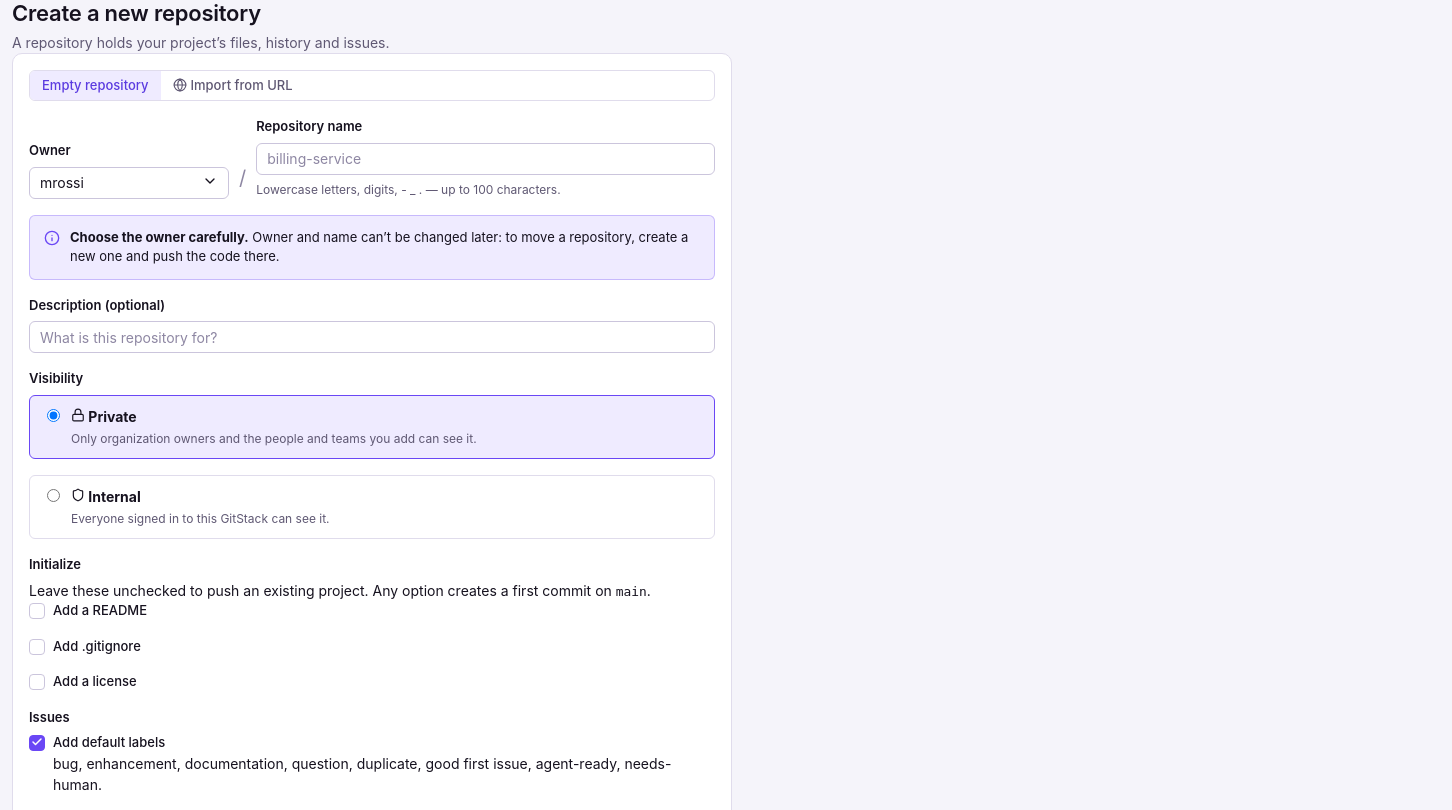
NewRepoPage › crea con i default: private, readme false, nessun modello
Expected: the dropdown named "Owner" reads "mrossi", [29,166,229,198]
Type "demo" into the field labelled "Repository name" at (486, 158), box [256,142,715,174]
(page scrolled)
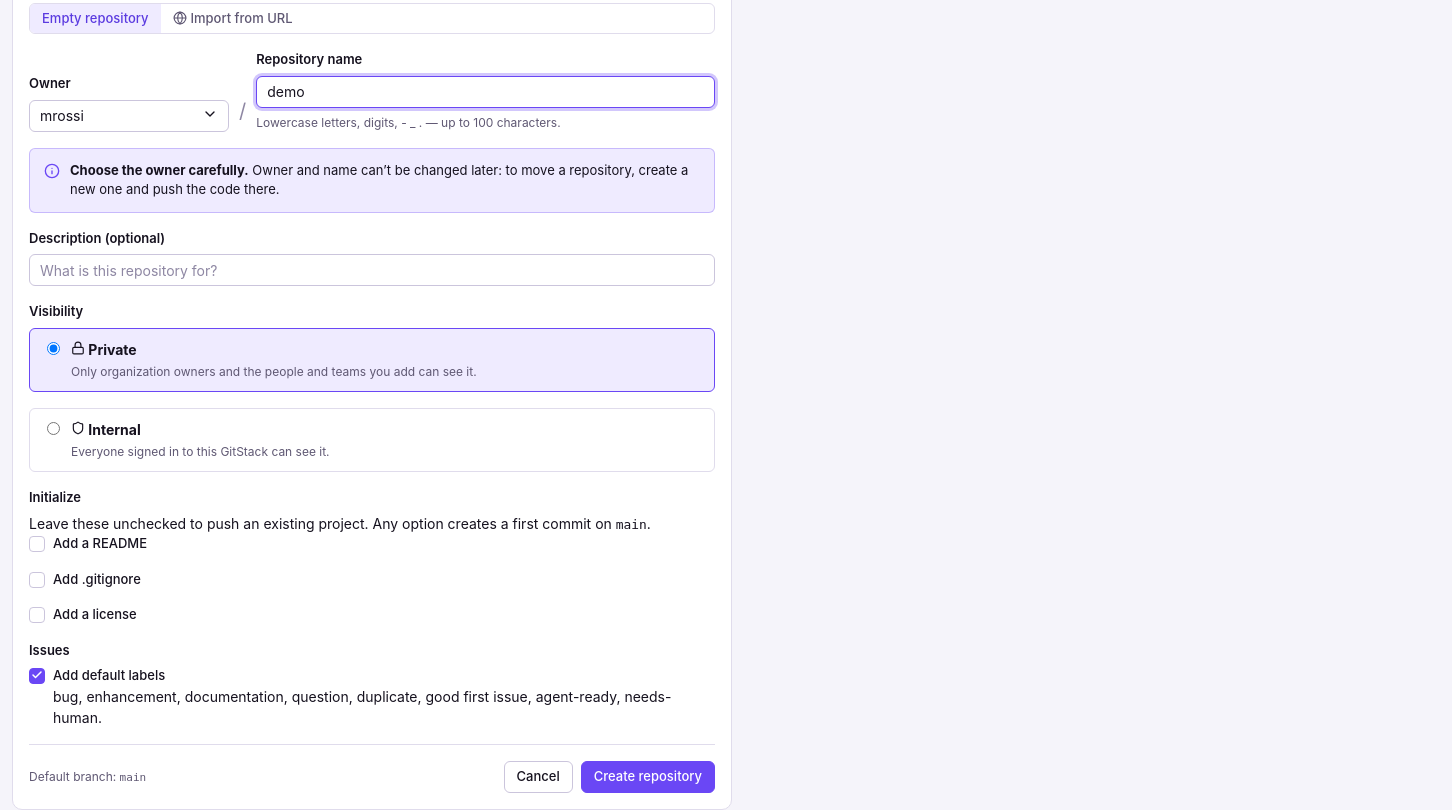
Click the button "Create repository" at (648, 777), box [581,761,715,793]
(page scrolled)
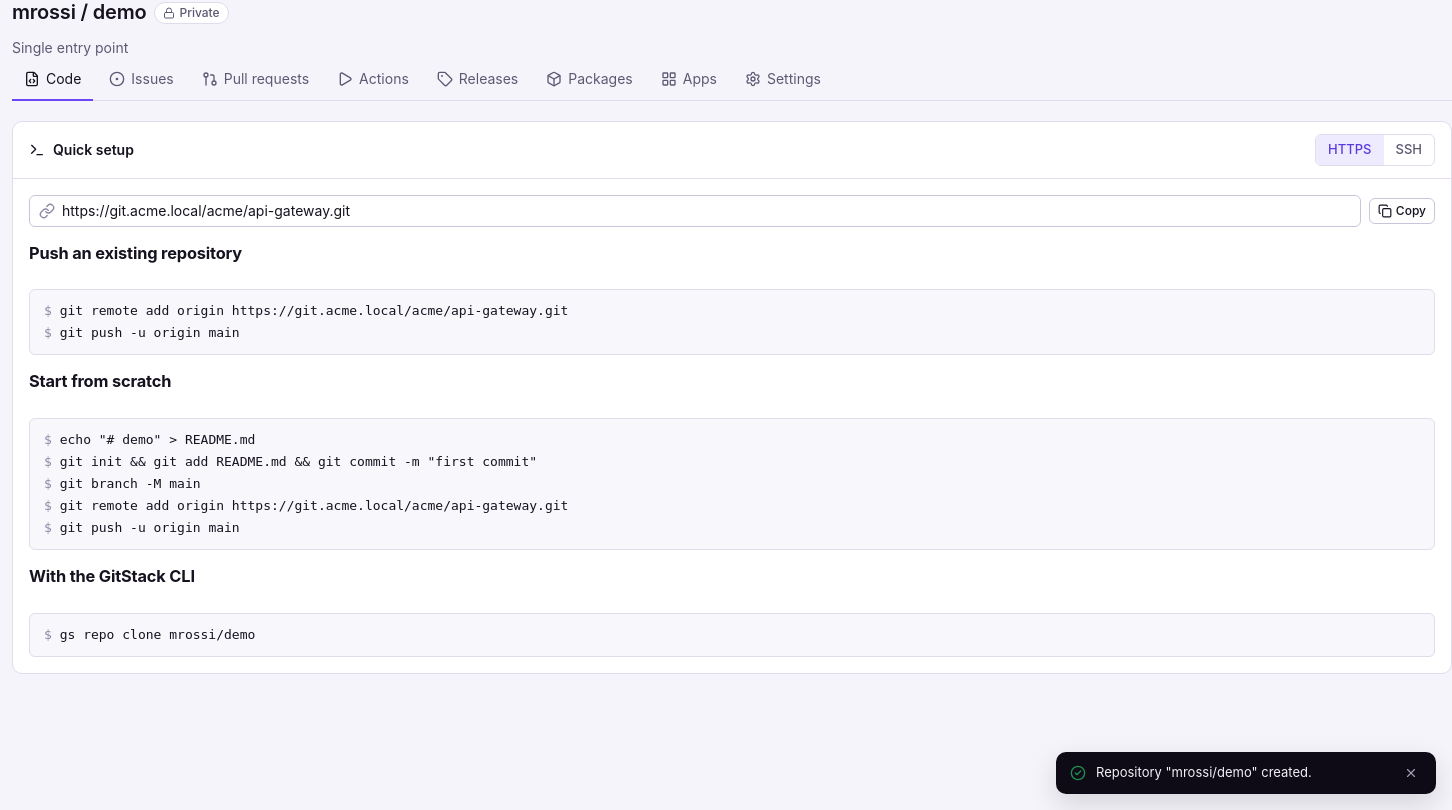
Now the element "Quick setup" is shown
